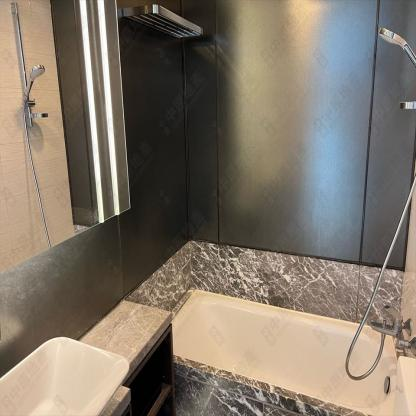Bathtub: (172, 287, 411, 415)
Faucet: (370, 304, 404, 353)
Toilet Sink: (0, 338, 131, 415)
